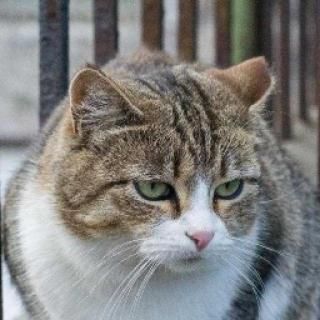cat: (59, 51, 283, 288)
nose: (179, 213, 217, 252)
